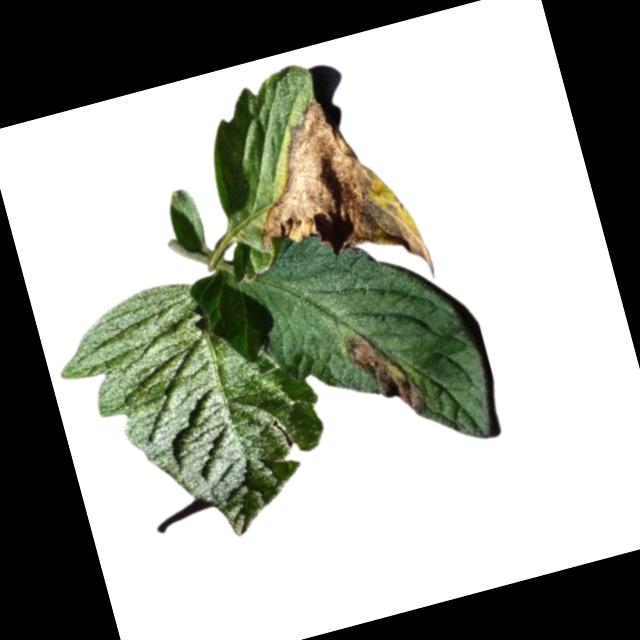Late_blight: (228, 79, 439, 317), (341, 319, 430, 426)
healthy: (46, 252, 351, 567)
